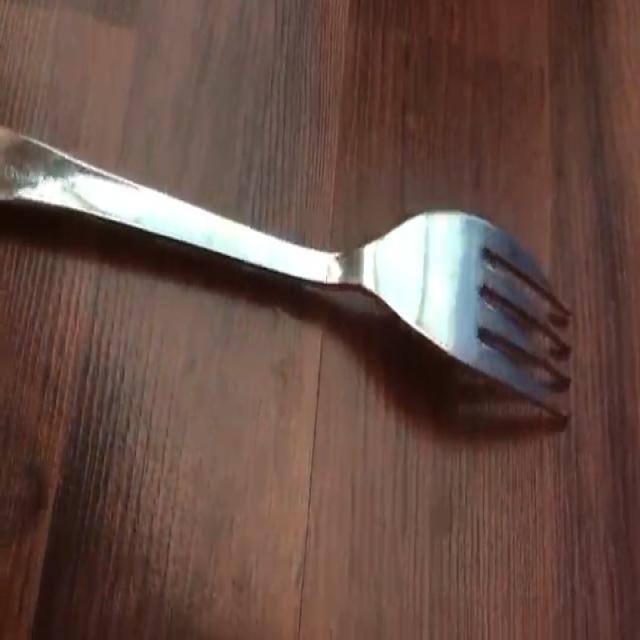spoon: (0, 128, 573, 421)
